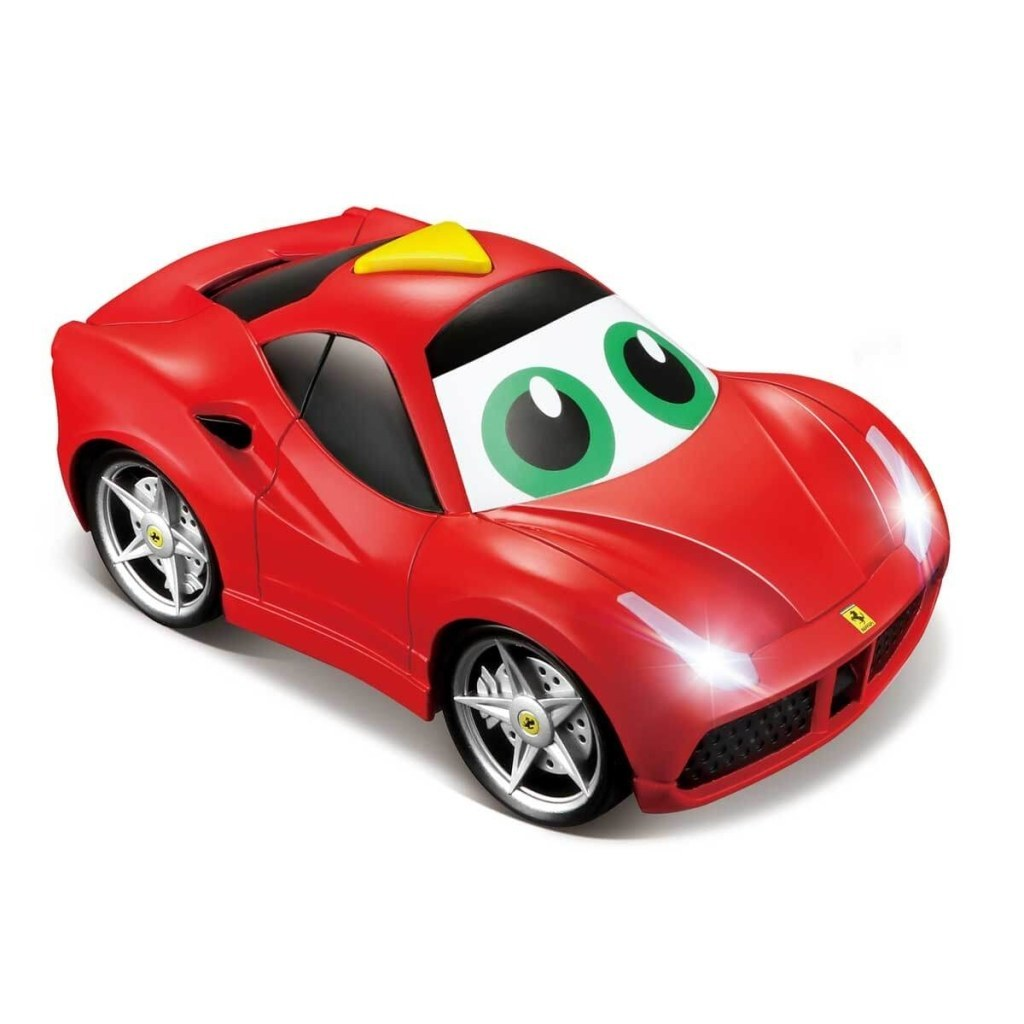ARABA: (48, 203, 955, 832)
